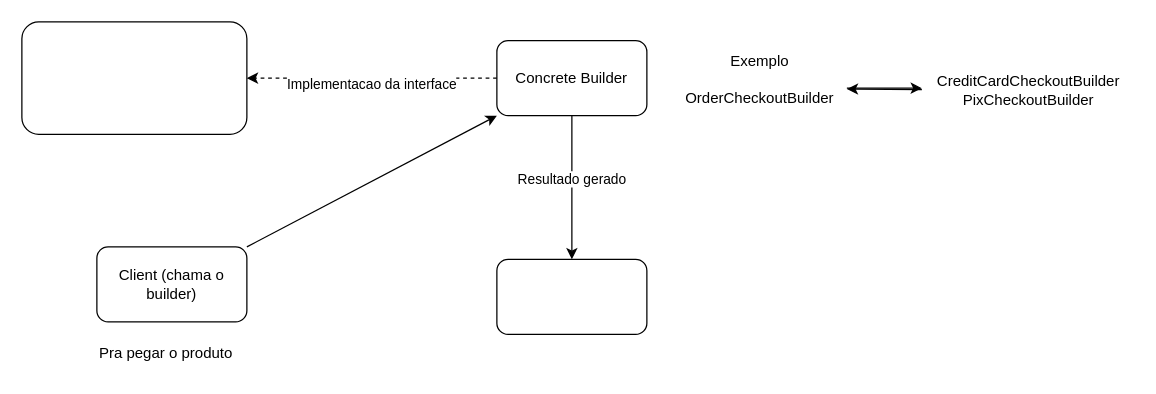
Image size: 1156x394. Some labels were removed from this diagram. The box of each missing label's shape, as (x1, y1, x2, y2) in pixels:
Interface (ctor): (21, 21, 247, 134)
Product: (496, 258, 647, 334)
